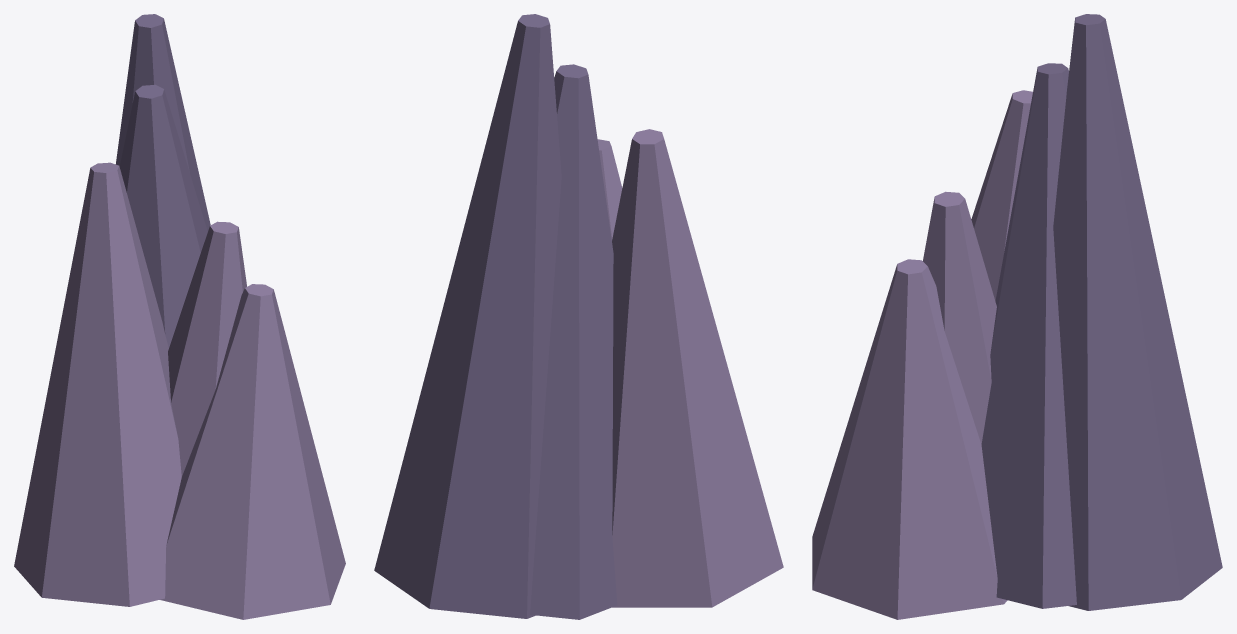
Rendered from ember_crag_b.glb.
The picture shows the model from 3 angles, left to right: view 1: azimuth 30°, elevation 25°; view 2: azimuth 150°, elevation 25°; view 3: azimuth 270°, elevation 25°; orthographic projection. The views are drawn at different scales.
Visible parts, largest first — view 1: Crag_02.001, Crag_01.001, Crag_00.001, Crag_04, Crag_03.001; view 2: Crag_03.001, Crag_02.001, Crag_00.001, Crag_04; view 3: Crag_03.001, Crag_01.001, Crag_00.001, Crag_04, Crag_02.001.
Part boxes in pixels (box(x1,y1,x2,y2)): Crag_02.001: box(14, 162, 181, 606); Crag_01.001: box(160, 284, 345, 619); Crag_00.001: box(119, 84, 207, 347); Crag_04: box(168, 221, 246, 476); Crag_03.001: box(115, 14, 210, 231); Crag_03.001: box(374, 14, 561, 618); Crag_02.001: box(612, 129, 783, 607); Crag_00.001: box(530, 64, 617, 619); Crag_04: box(597, 139, 622, 240); Crag_03.001: box(1053, 14, 1222, 610); Crag_01.001: box(812, 259, 1007, 619); Crag_00.001: box(981, 63, 1076, 608); Crag_04: box(923, 191, 996, 444); Crag_02.001: box(971, 90, 1032, 300).
Bounding box in the file's own units: 2.65 × 4.49 × 3.07.
